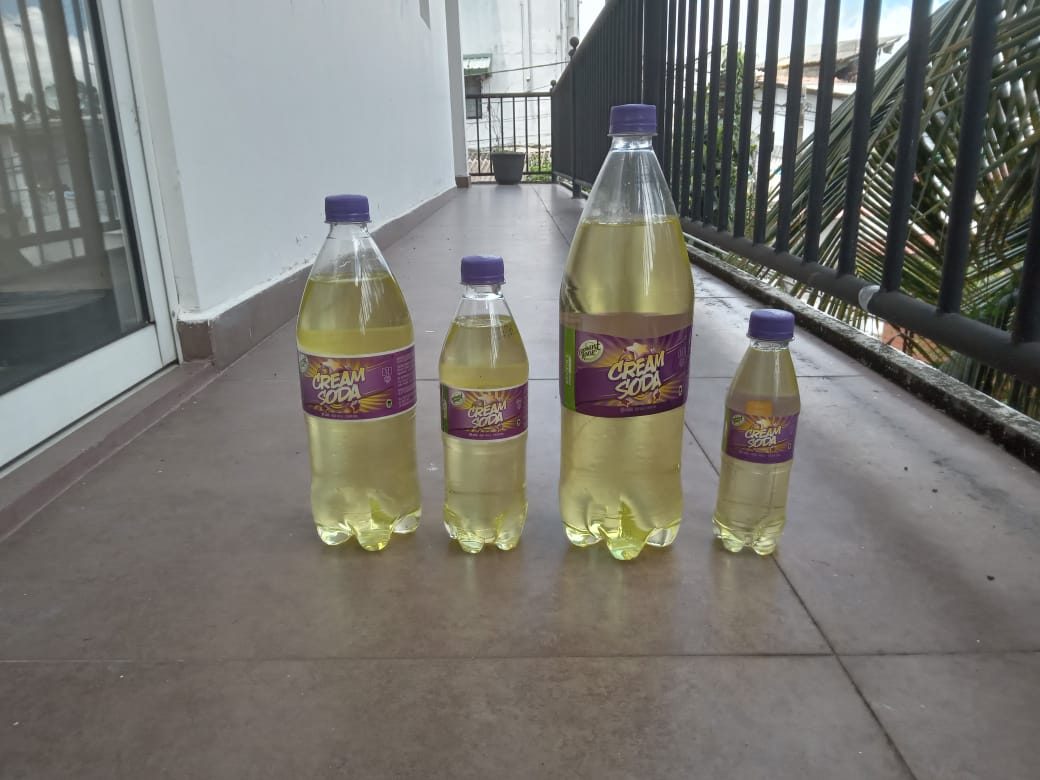L: (559, 103, 695, 561)
M: (296, 196, 427, 554)
S: (440, 258, 529, 552)
Xs: (709, 312, 803, 565)
